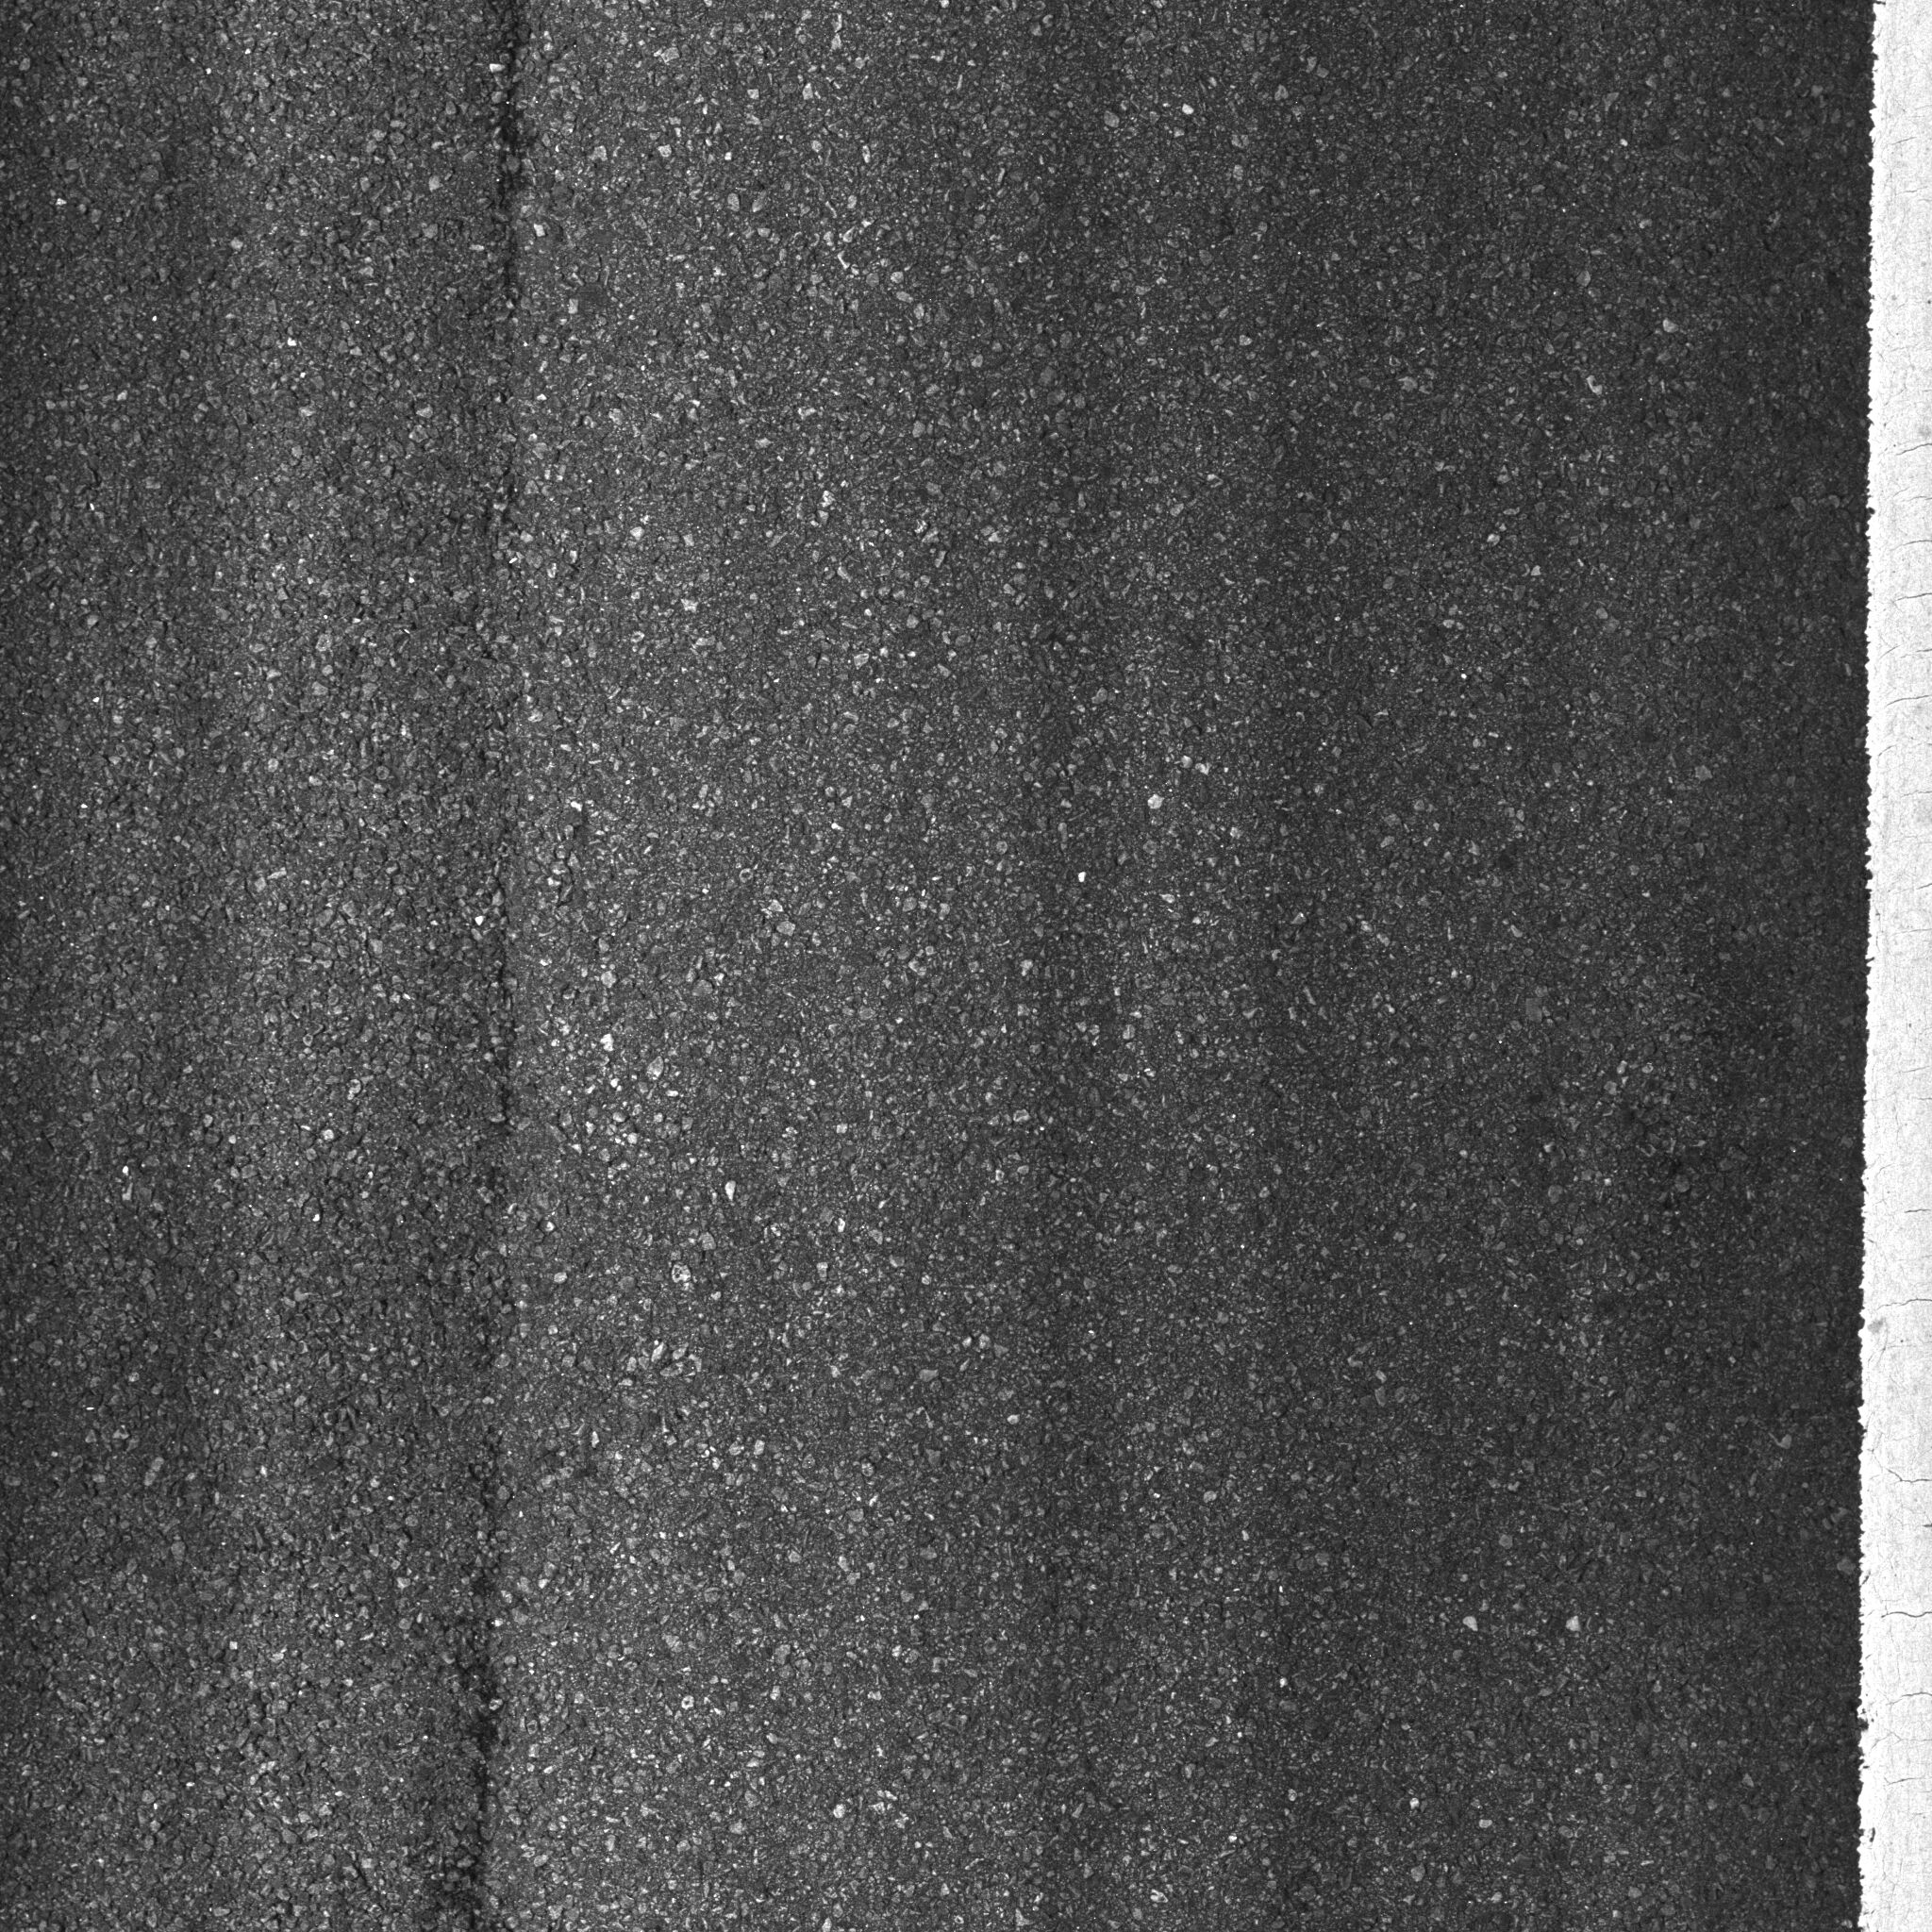longitudinal: (418, 4, 600, 1913)
